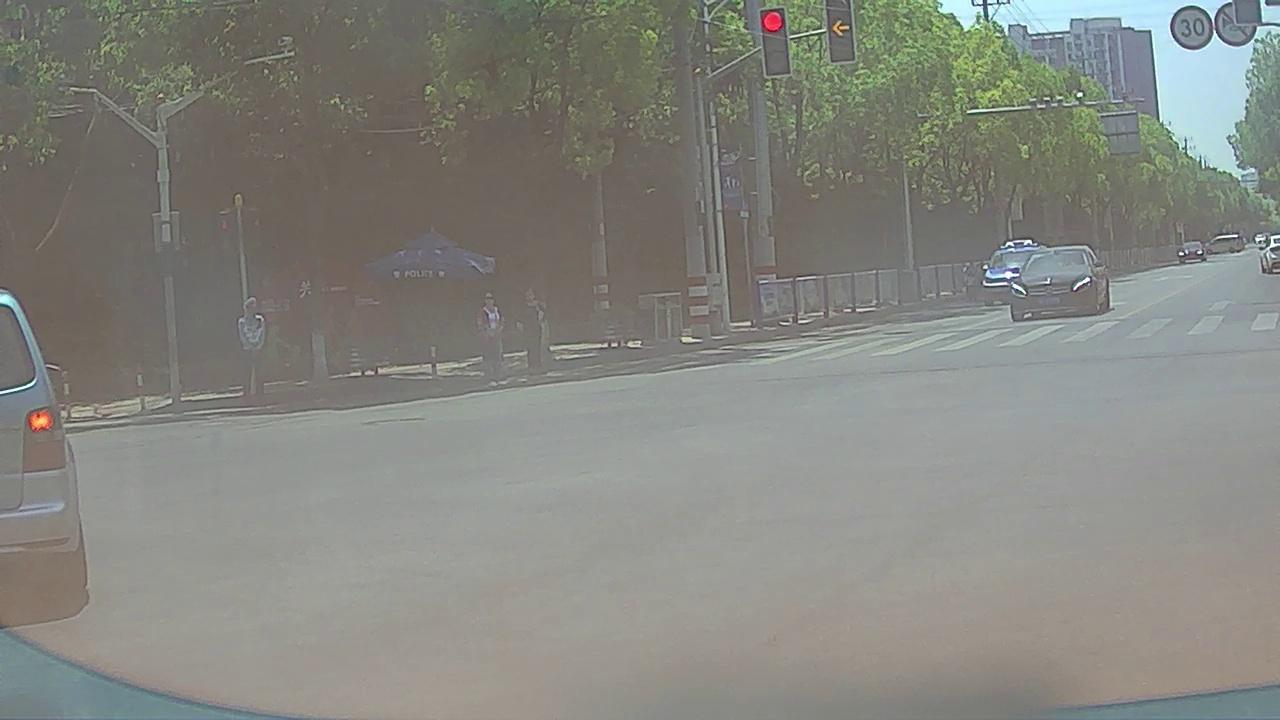traffic_light: (761, 9, 788, 76), (827, 1, 855, 61)
